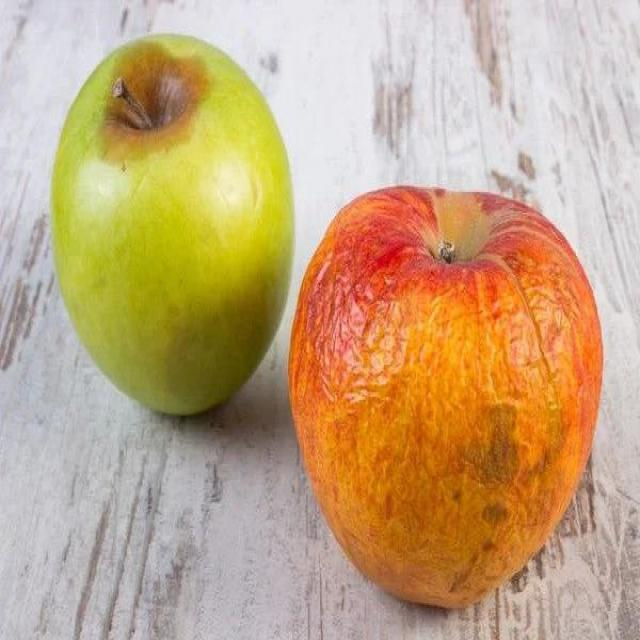Rotten: (296, 192, 598, 606), (62, 32, 288, 410)
